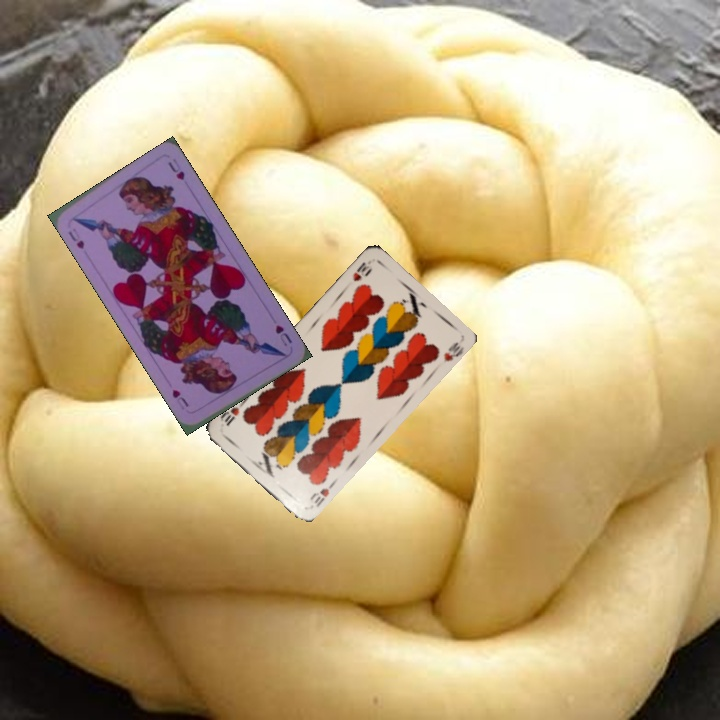H10: (306, 478, 337, 510), (349, 256, 375, 284)
HU: (271, 320, 295, 349), (64, 224, 87, 252)
